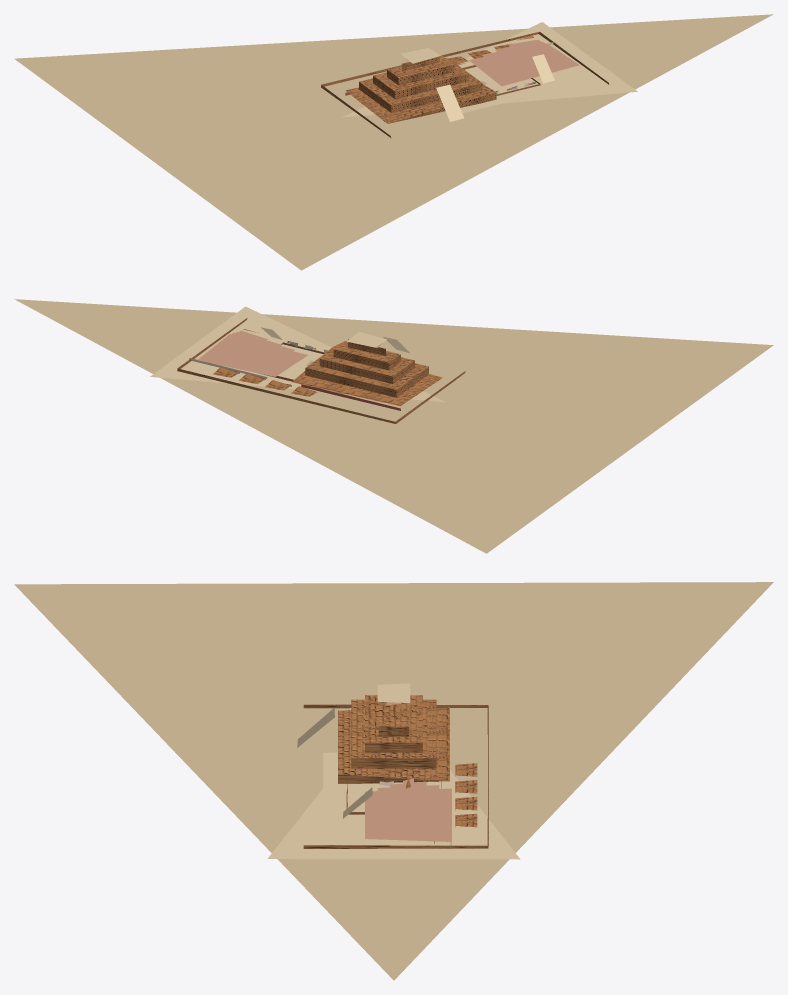
Rendered from moche_site_lod1.glb.
3 views of the same model, one above another, from view 1: azimuth 30°, elevation 25°; view 2: azimuth 150°, elevation 25°; view 3: azimuth 270°, elevation 25° (orthographic). The views are drawn at different scales.
Visible parts, largest first — view 1: Moche_LOD1_Terrain, Moche_LOD1_City, Moche_LOD1_Apron, Moche_LOD1_Walls; view 2: Moche_LOD1_Terrain, Moche_LOD1_City, Moche_LOD1_Apron, Moche_LOD1_Walls; view 3: Moche_LOD1_Terrain, Moche_LOD1_City, Moche_LOD1_Apron, Moche_LOD1_Walls.
Boxes of the visible parts, x1,y1,x2,y2 form: Moche_LOD1_Terrain: (14, 14, 773, 270); Moche_LOD1_City: (345, 35, 579, 123); Moche_LOD1_Apron: (342, 22, 637, 117); Moche_LOD1_Walls: (321, 31, 609, 137); Moche_LOD1_Terrain: (14, 299, 773, 553); Moche_LOD1_City: (197, 327, 442, 406); Moche_LOD1_Apron: (150, 306, 445, 402); Moche_LOD1_Walls: (177, 318, 465, 423); Moche_LOD1_Terrain: (14, 582, 773, 980); Moche_LOD1_City: (297, 683, 477, 841); Moche_LOD1_Apron: (267, 770, 520, 859); Moche_LOD1_Walls: (303, 704, 488, 849).
Size of the model in its own units: 520 by 37.46 by 420.
8 materials, 1 textured.
